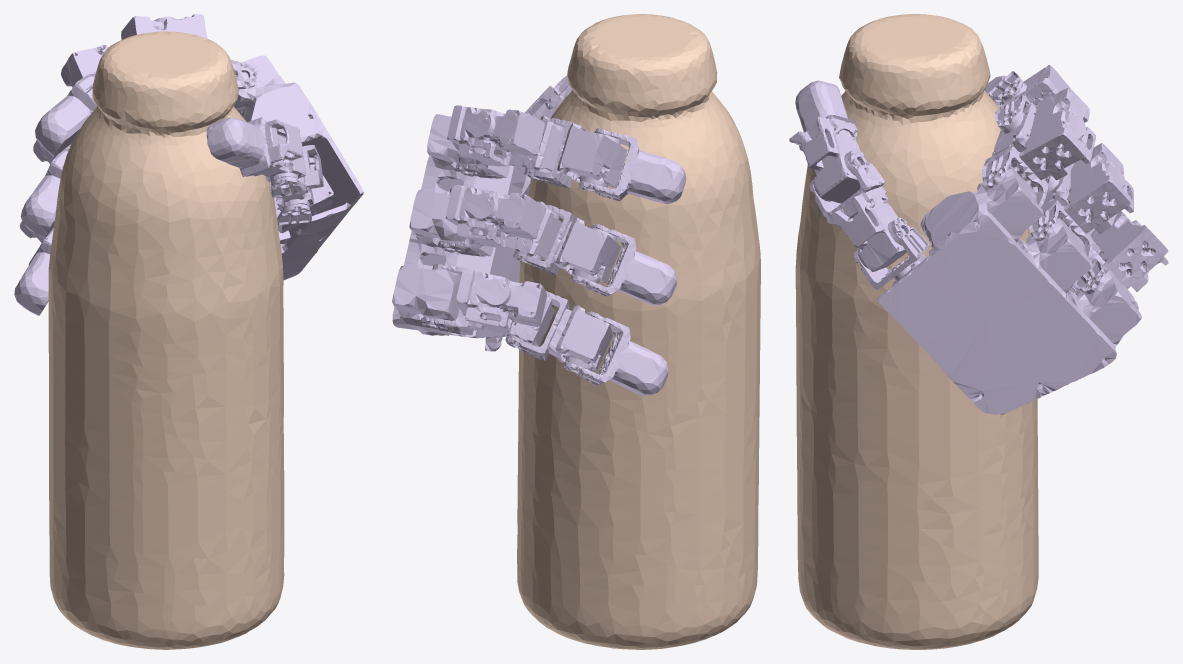
File: 84429c2b53a64c-closed.glb
3 renders of one model, left to right at view 1: azimuth 30°, elevation 25°; view 2: azimuth 150°, elevation 25°; view 3: azimuth 270°, elevation 25°, orthographic. The views are drawn at different scales.
Parts seen in each view (by area): view 1: world, LEAP_hand; view 2: world, LEAP_hand; view 3: world, LEAP_hand.
Part boxes in pixels (<box>): world: <box>48,31,284,649</box>; LEAP_hand: <box>14,14,363,315</box>; world: <box>517,14,760,649</box>; LEAP_hand: <box>392,75,686,395</box>; world: <box>795,14,1038,649</box>; LEAP_hand: <box>789,64,1168,414</box>.
Bounding box in the file's own units: 0.1887 × 0.3588 × 0.2151.
